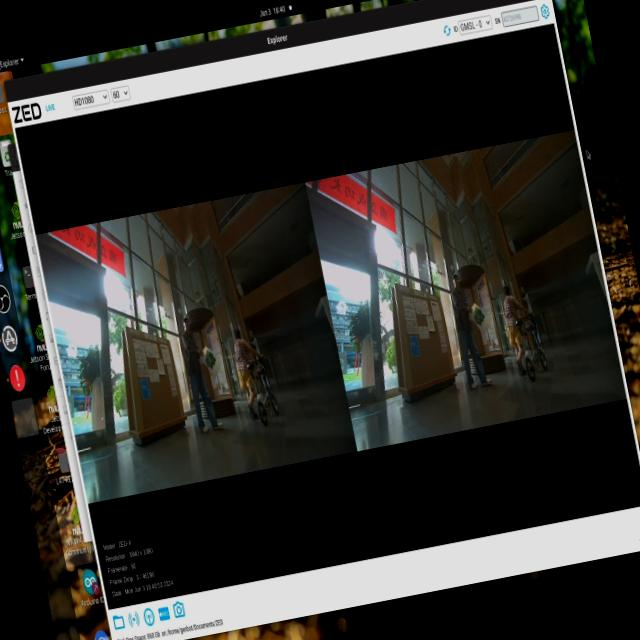green: (462, 300, 488, 334), (200, 348, 222, 382)
